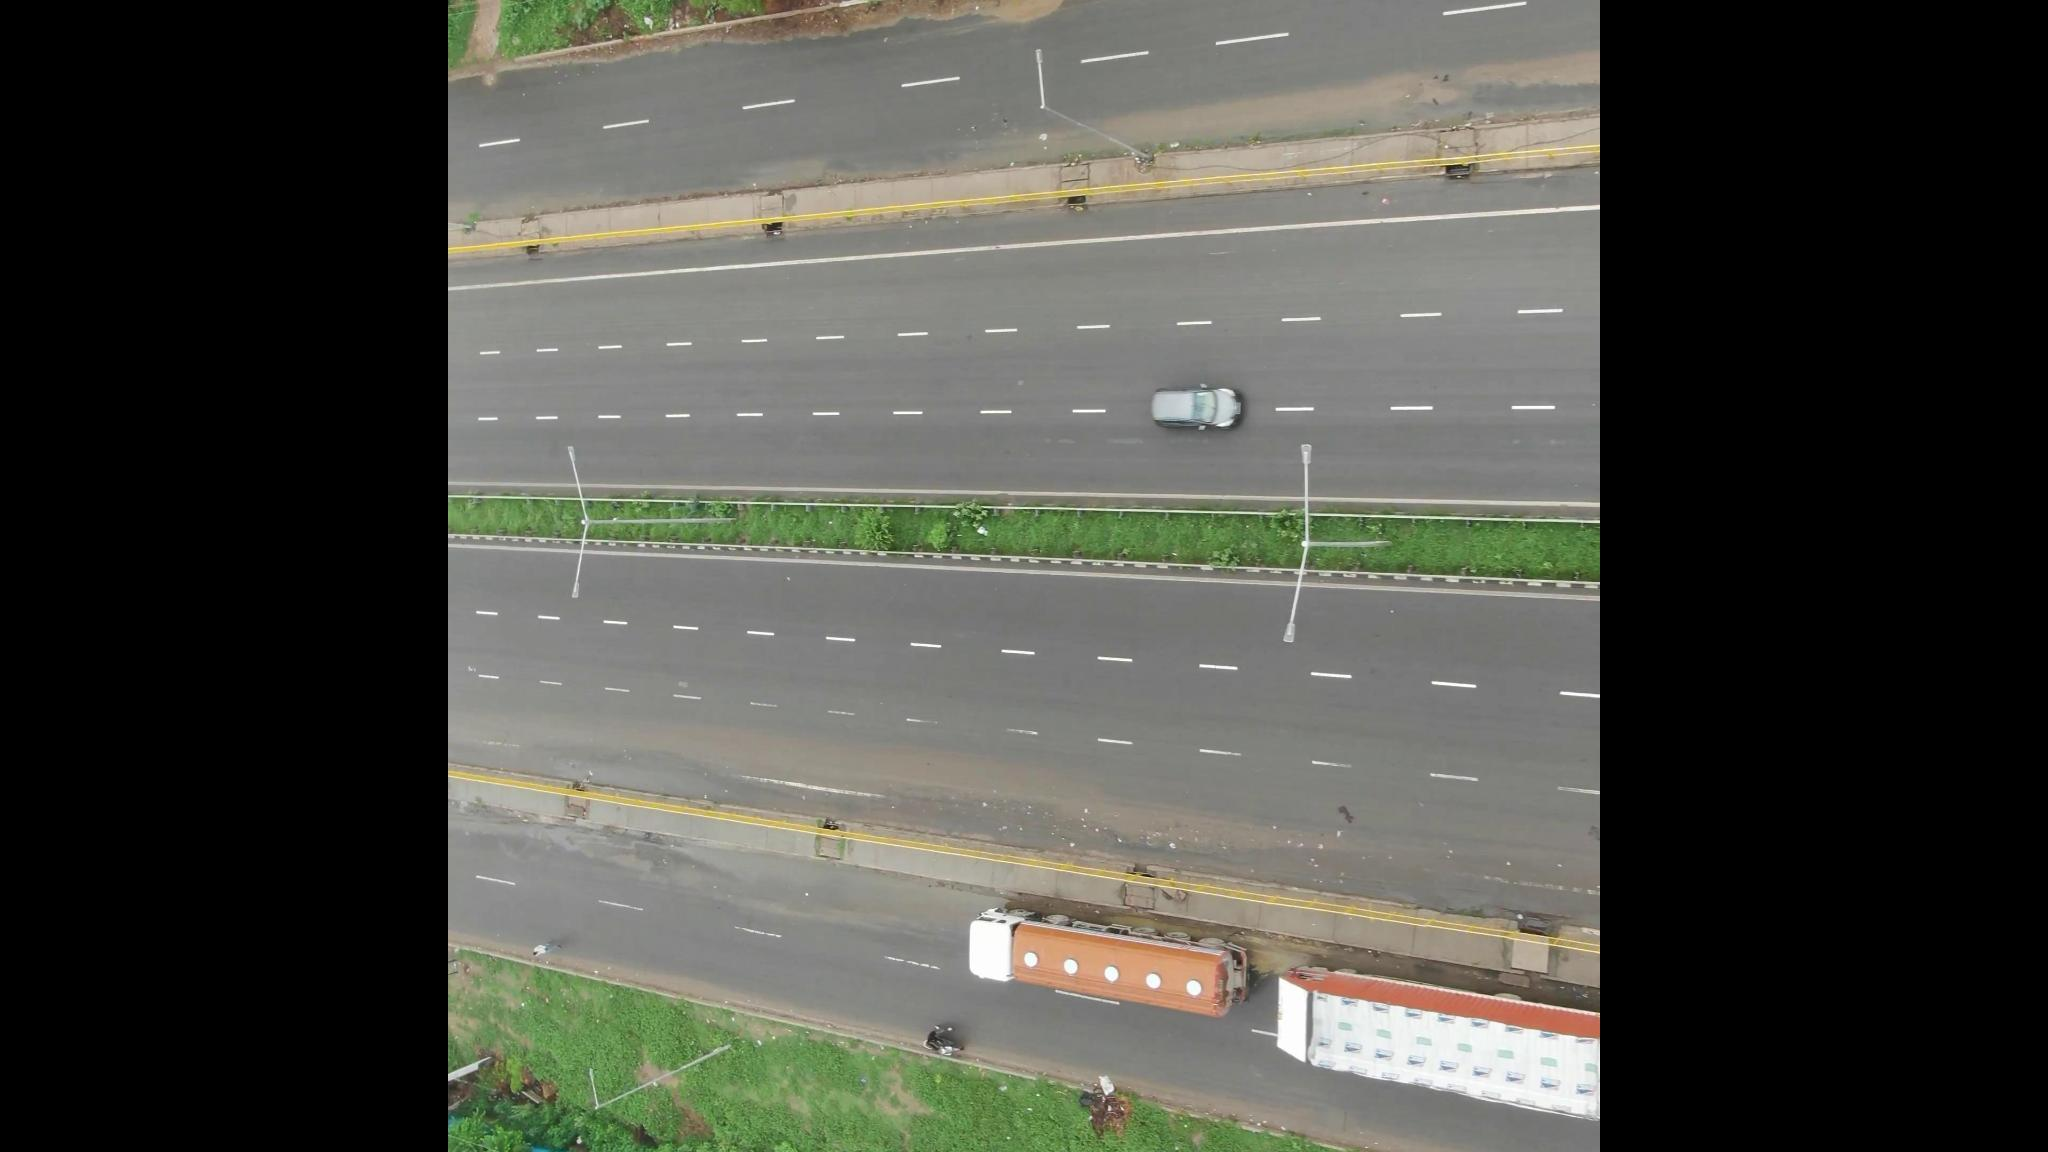Muddy_road: (724, 1, 893, 60), (913, 1, 1070, 52)
